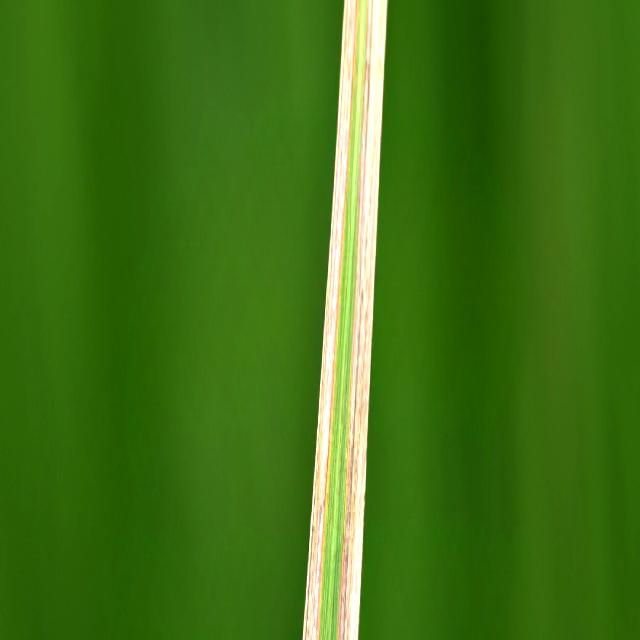BLB: (303, 0, 359, 640), (337, 0, 386, 640)
